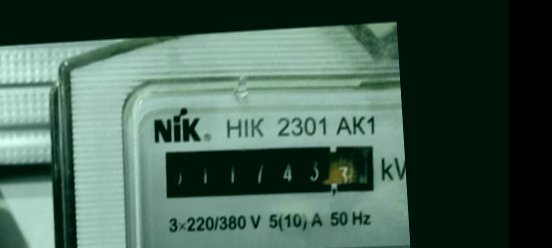0: (170, 160, 186, 187)
1: (197, 158, 213, 187), (225, 157, 240, 186)
3: (306, 156, 322, 184), (336, 164, 352, 186)
4: (280, 159, 296, 185)
7: (252, 159, 268, 184)
screen: (156, 133, 386, 211)
